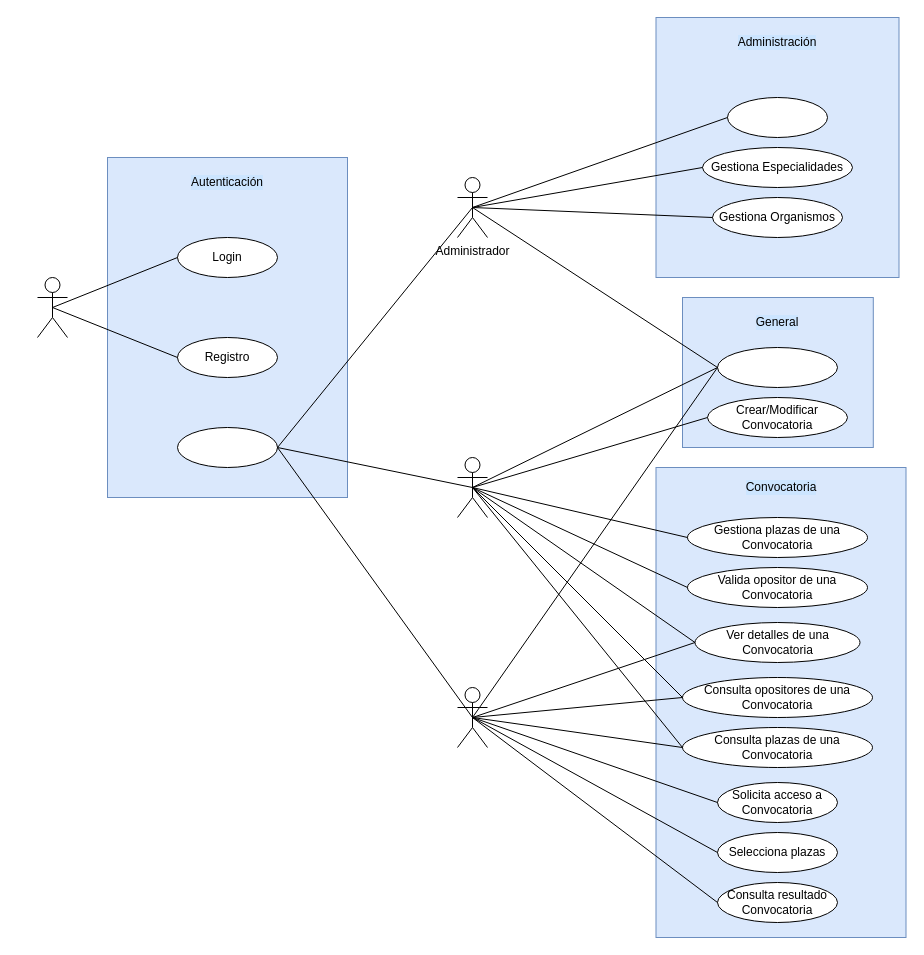
Some shapes in this 924 by 955 pixel diagram are drawn without their labels. Here are the shapes that lost their labels. From the top down, the centre of each, then its label:
At pixel 777 117: "Gestiona Grupos".
At pixel 52 307: "Usuario no registrado".
At pixel 777 367: "Consultar pantalla principal".
At pixel 227 447: "Logout".
At pixel 472 487: "Organizador".
At pixel 472 717: "Opositor".
